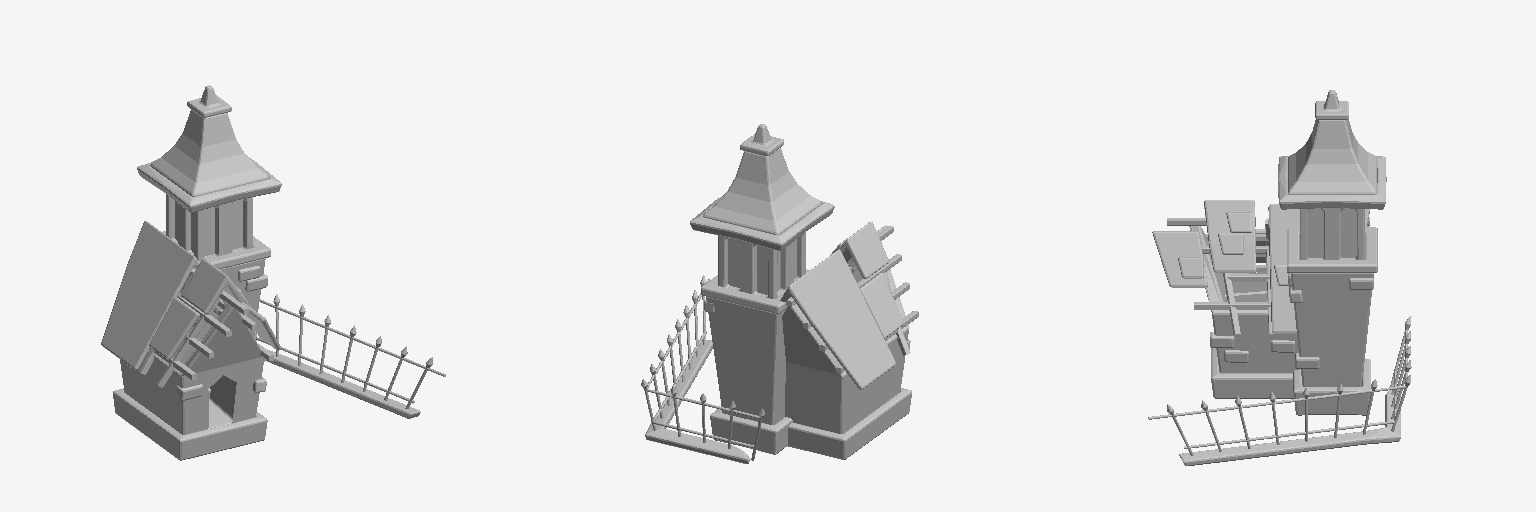
The model's file is housetry1.obj.
3 views of the same model, side by side, from view 1: azimuth 30°, elevation 25°; view 2: azimuth 150°, elevation 25°; view 3: azimuth 270°, elevation 25° (orthographic).
Visible parts, largest first — view 1: Plane.054, Plane.061, Plane.060, Plane.046, Plane.052, Plane.043, Plane.042, Plane.044, Plane.048, Plane.047, Plane.059; view 2: Plane.060, Plane.054, Plane.061, Plane.046, Plane.043, Plane.044, Plane.042, Plane.045, Plane.048, Plane.052, Plane.047, Plane.059; view 3: Plane.060, Plane.054, Plane.061, Plane.043, Plane.044, Plane.052, Plane.046, Plane.042, Plane.045, Plane.047, Plane.048, Plane.059.
Boxes of the visible parts, x1=… form: Plane.054: x1=101, y1=221, x2=280, y2=369; Plane.061: x1=120, y1=304, x2=264, y2=434; Plane.060: x1=150, y1=110, x2=268, y2=336; Plane.046: x1=113, y1=388, x2=267, y2=460; Plane.052: x1=139, y1=268, x2=273, y2=387; Plane.043: x1=254, y1=294, x2=445, y2=408; Plane.042: x1=137, y1=158, x2=281, y2=212; Plane.044: x1=266, y1=350, x2=420, y2=418; Plane.048: x1=175, y1=199, x2=242, y2=256; Plane.047: x1=162, y1=231, x2=270, y2=268; Plane.059: x1=187, y1=85, x2=231, y2=117; Plane.060: x1=703, y1=148, x2=821, y2=424; Plane.054: x1=780, y1=222, x2=902, y2=389; Plane.061: x1=782, y1=242, x2=908, y2=433; Plane.046: x1=788, y1=388, x2=911, y2=459; Plane.043: x1=641, y1=275, x2=764, y2=460; Plane.044: x1=645, y1=340, x2=750, y2=463; Plane.042: x1=690, y1=197, x2=834, y2=250; Plane.045: x1=710, y1=406, x2=792, y2=454; Plane.048: x1=728, y1=238, x2=796, y2=294; Plane.052: x1=782, y1=226, x2=918, y2=373; Plane.047: x1=701, y1=269, x2=809, y2=313; Plane.059: x1=740, y1=124, x2=783, y2=155; Plane.060: x1=1288, y1=119, x2=1376, y2=386; Plane.054: x1=1152, y1=200, x2=1369, y2=333; Plane.061: x1=1189, y1=226, x2=1368, y2=372; Plane.043: x1=1148, y1=316, x2=1411, y2=455; Plane.044: x1=1179, y1=389, x2=1400, y2=465; Plane.052: x1=1167, y1=218, x2=1369, y2=334; Plane.046: x1=1211, y1=348, x2=1293, y2=398; Plane.042: x1=1278, y1=156, x2=1386, y2=209; Plane.045: x1=1293, y1=359, x2=1370, y2=415; Plane.047: x1=1287, y1=227, x2=1377, y2=272; Plane.048: x1=1308, y1=208, x2=1356, y2=257; Plane.059: x1=1315, y1=90, x2=1348, y2=119.
Bounding box in the file's own units: 7.11 × 8.45 × 6.48.